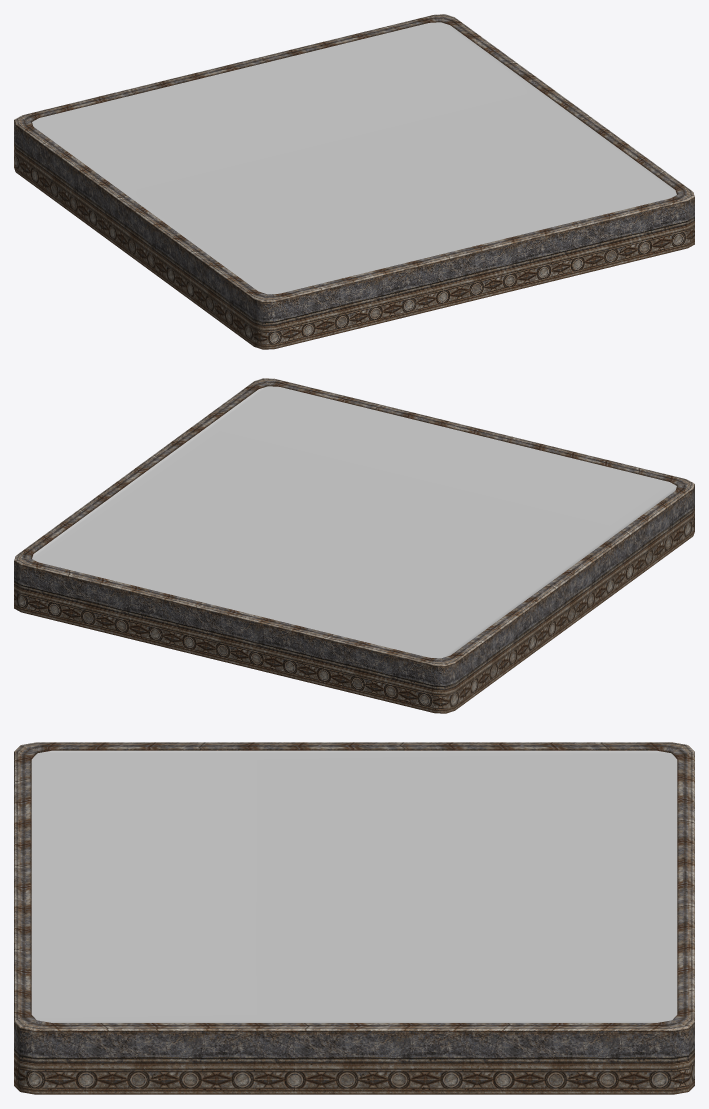
The model's file is prf_env_bld_BaseBuild_Medium.fbx.
The picture shows the model from 3 angles, top to bottom: view 1: azimuth 30°, elevation 25°; view 2: azimuth 150°, elevation 25°; view 3: azimuth 270°, elevation 25°; orthographic projection. The views are drawn at different scales.
Parts seen in each view (by area): view 1: prf_env_bld_BaseBuild_BaseMedium_A; view 2: prf_env_bld_BaseBuild_BaseMedium_A; view 3: prf_env_bld_BaseBuild_BaseMedium_A.
Boxes of the visible parts, x1,y1,x2,y2 form: prf_env_bld_BaseBuild_BaseMedium_A: (14, 14, 694, 349); prf_env_bld_BaseBuild_BaseMedium_A: (14, 378, 694, 713); prf_env_bld_BaseBuild_BaseMedium_A: (14, 742, 694, 1094).
Bounding box in the file's own units: 2000 × 210 × 2000.
